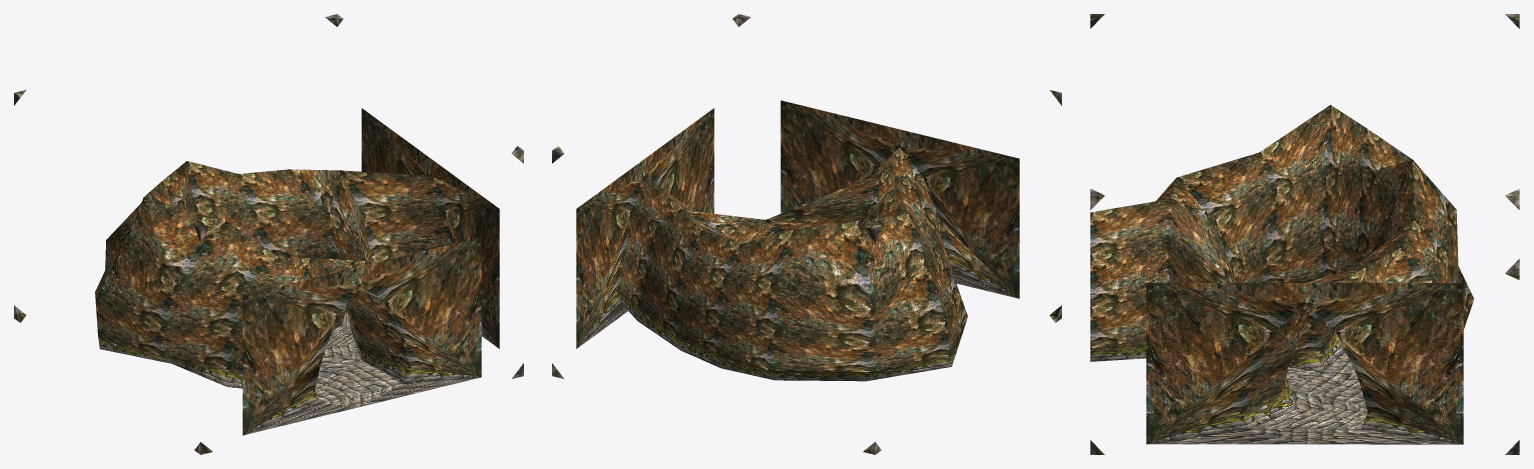
The model's file is lbc_2j.glb.
3 renders of one model, left to right at view 1: azimuth 30°, elevation 25°; view 2: azimuth 150°, elevation 25°; view 3: azimuth 270°, elevation 25°, orthographic. The views are drawn at different scales.
Visible parts, largest first — view 1: lbc_2j; view 2: lbc_2j; view 3: lbc_2j.
Boxes of the visible parts, x1,y1,x2,y2 form: lbc_2j: [14, 14, 523, 454]; lbc_2j: [552, 14, 1061, 454]; lbc_2j: [1090, 14, 1519, 454].
Bounding box in the file's own units: 15 × 10 × 15.
4 materials, 4 textured.
